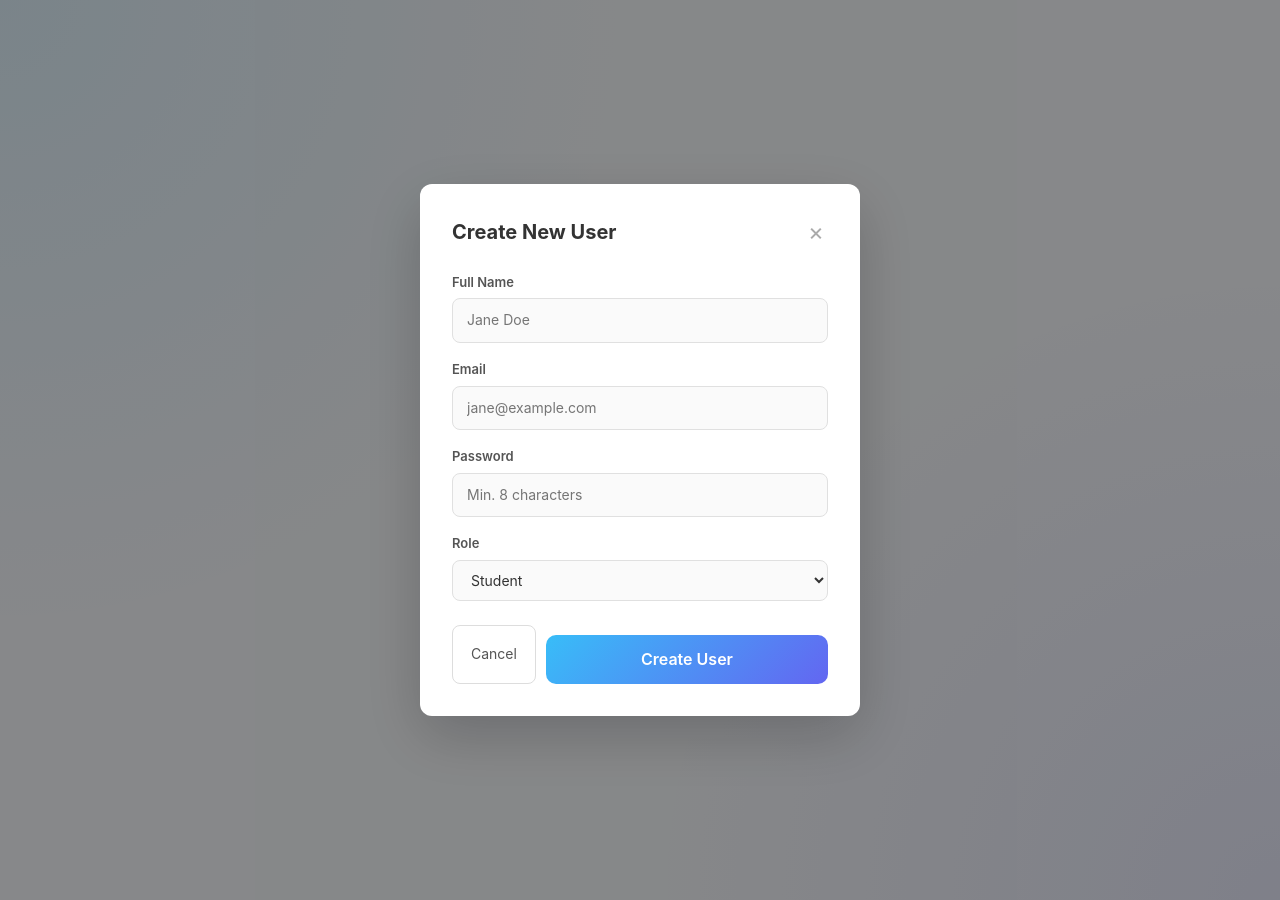
Test case: CreateUserModal › inline validation (on blur) › shows a name error after blurring an empty name field
Click the field labelled "Full Name": [640, 320] box [452, 298, 828, 343]
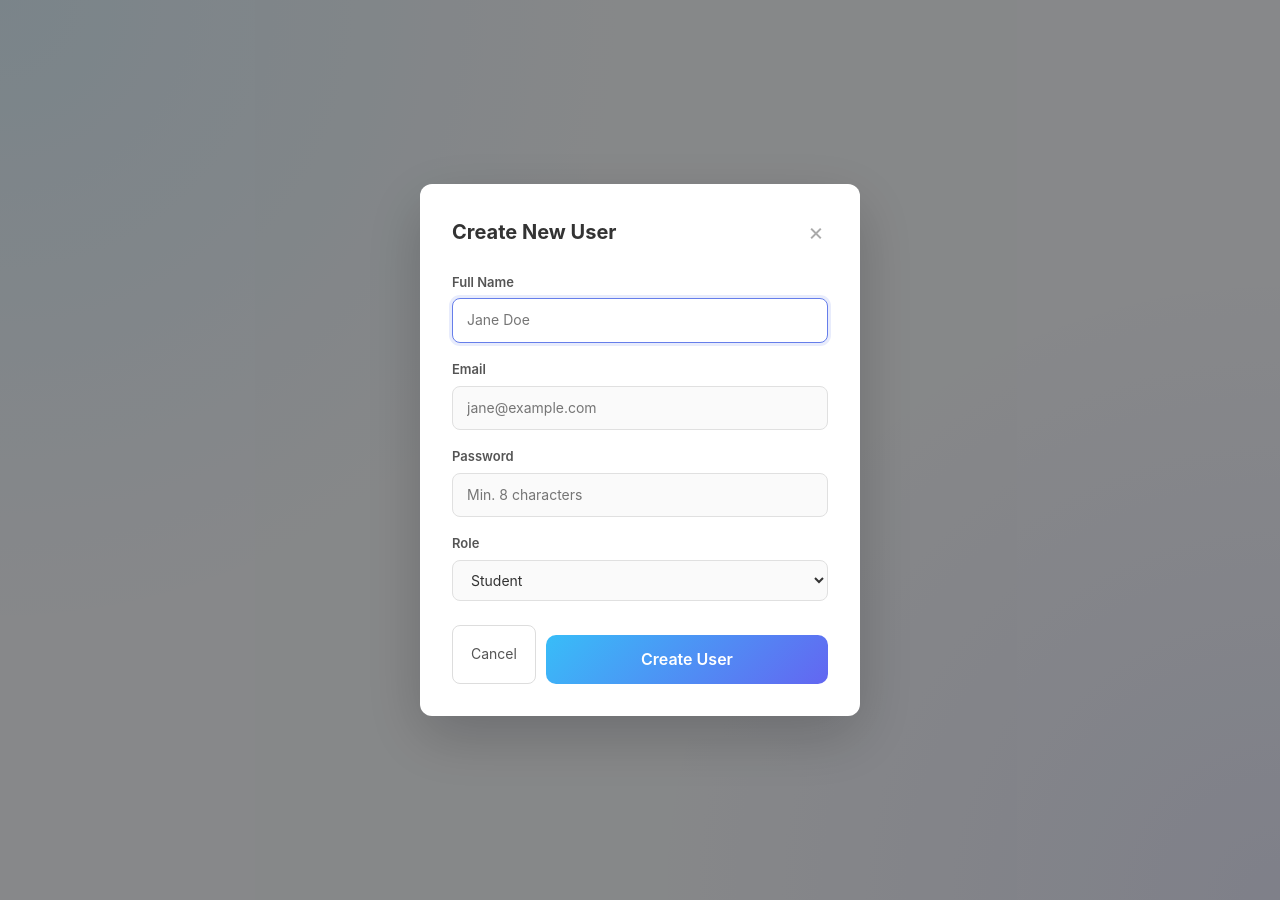
Press Tab
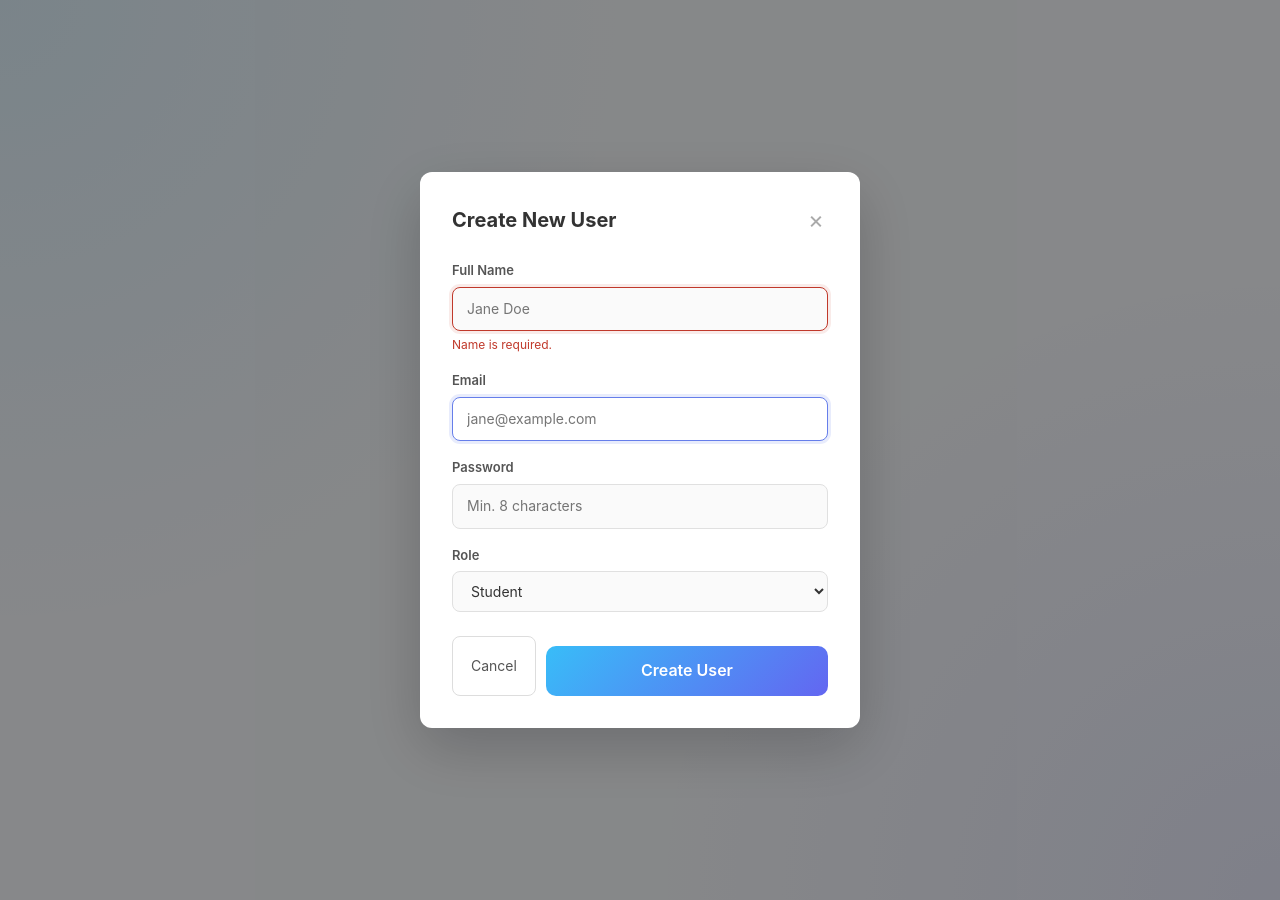
Expected: the text "Name is required." is shown, [452, 337, 552, 352]
